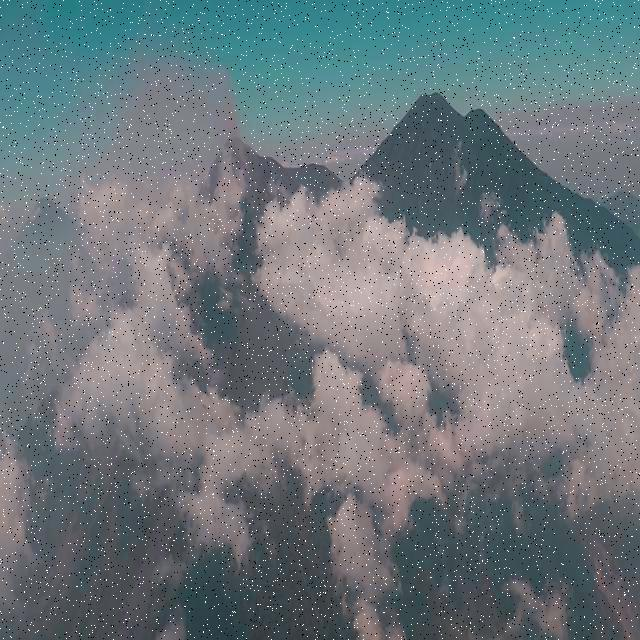Summit: (206, 132, 283, 182)
